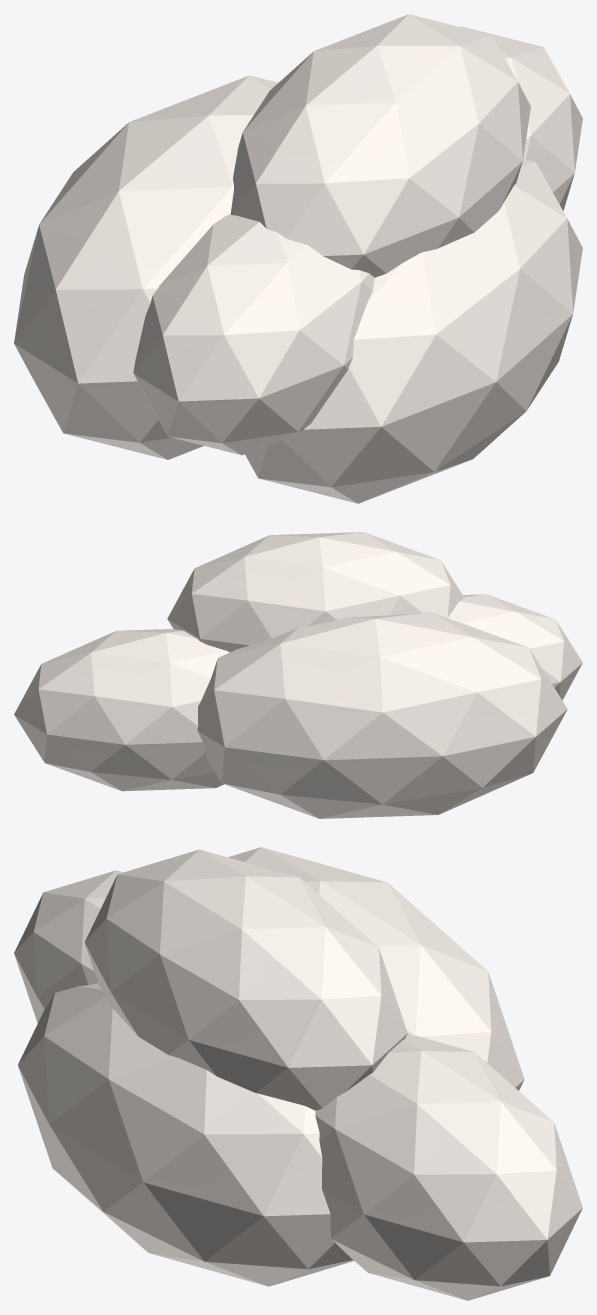
The model's file is Cloud.fbx.
3 views of the same model, one above another, from view 1: azimuth 30°, elevation 25°; view 2: azimuth 150°, elevation 25°; view 3: azimuth 270°, elevation 25° (orthographic). The views are drawn at different scales.
Visible parts, largest first — view 1: Cloud; view 2: Cloud; view 3: Cloud.
Boxes of the visible parts, x1,y1,x2,y2 form: Cloud: (14, 14, 582, 503); Cloud: (14, 532, 582, 818); Cloud: (14, 847, 582, 1300).
Bounding box in the file's own units: 7.94 × 4.57 × 6.25.
